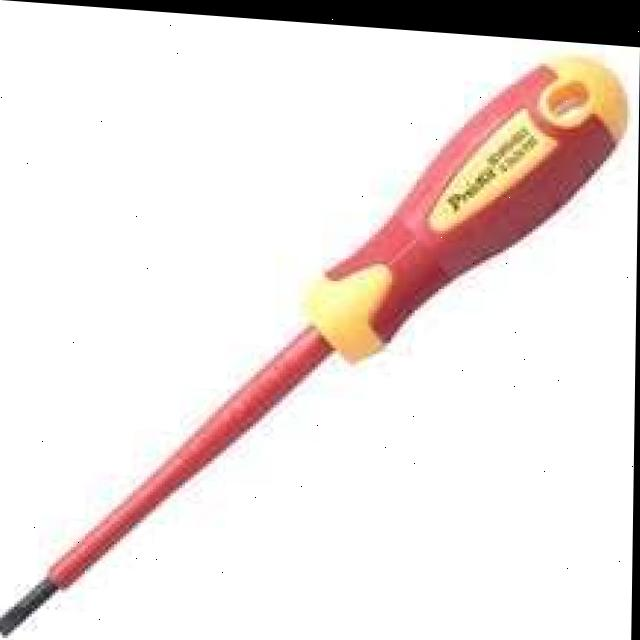Screwdriver: (0, 51, 627, 634)
